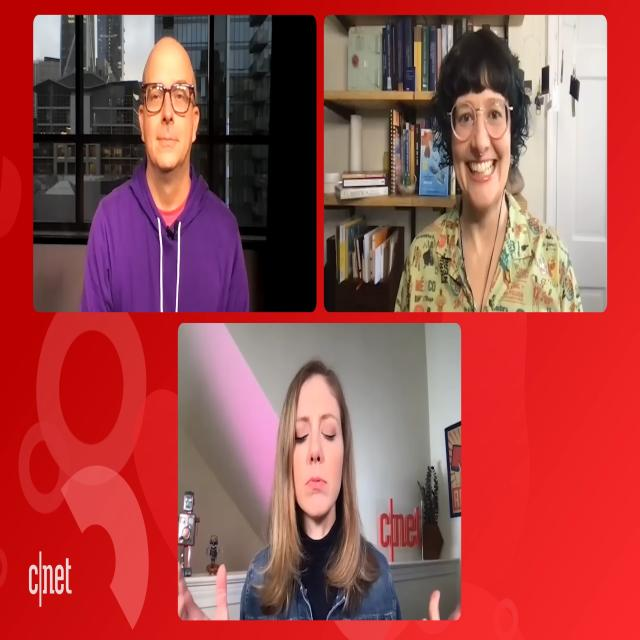dress: (79, 157, 254, 309), (391, 185, 586, 311), (238, 534, 406, 620)
glasses: (447, 90, 515, 147), (140, 76, 193, 123)
